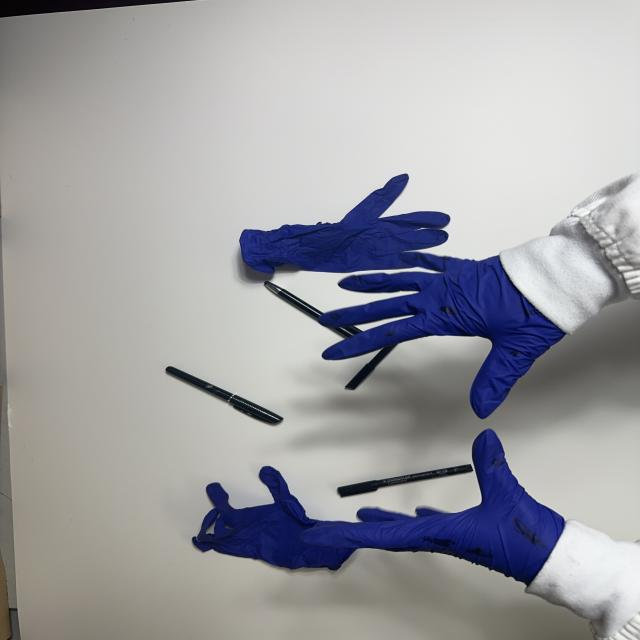gloves_contaminated: (321, 254, 565, 418), (311, 430, 564, 585)
